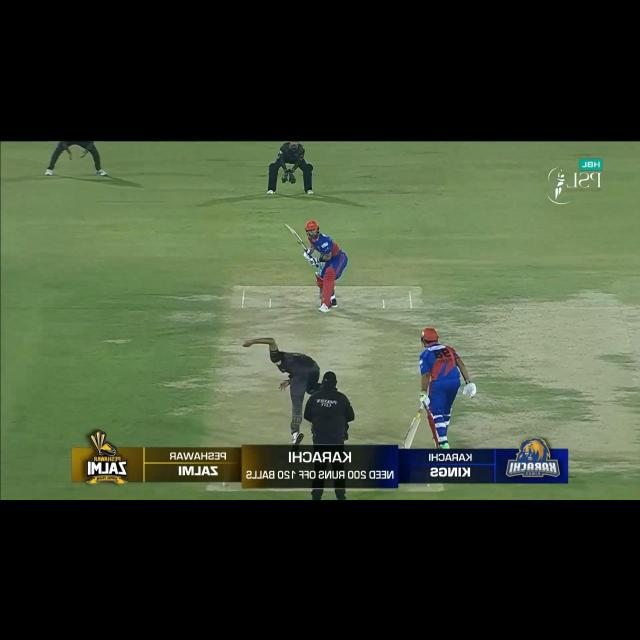bat: (402, 415, 420, 449), (286, 222, 305, 250)
toe: (282, 222, 290, 234), (402, 443, 408, 448)
